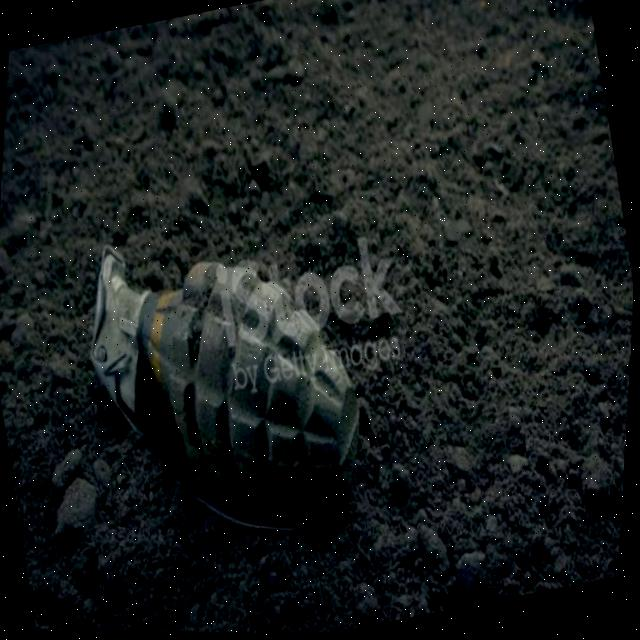grenade: (60, 194, 399, 588)
